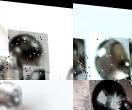ironball: (88, 31, 131, 80), (7, 28, 49, 72), (88, 80, 126, 110), (73, 34, 90, 80), (86, 66, 131, 80), (0, 81, 21, 109), (0, 49, 13, 80), (18, 67, 49, 80), (60, 62, 73, 80), (123, 100, 131, 109)
